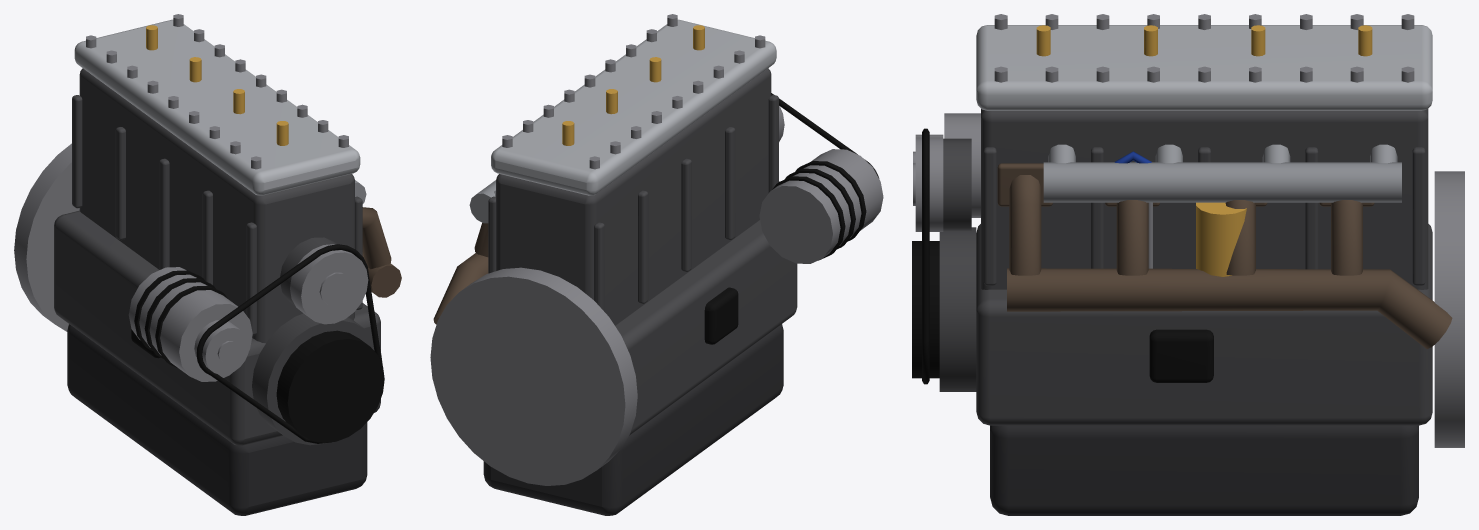
The model's file is runabout_i4_2l9_sv.glb.
The picture shows the model from 3 angles, left to right: view 1: azimuth 30°, elevation 25°; view 2: azimuth 150°, elevation 25°; view 3: azimuth 270°, elevation 25°; orthographic projection. The views are drawn at different scales.
Parts seen in each view (by area): view 1: runabout_i4_2l9_sv; view 2: runabout_i4_2l9_sv; view 3: runabout_i4_2l9_sv.
Part boxes in pixels (<box>): runabout_i4_2l9_sv: <box>14,14,401,515</box>; runabout_i4_2l9_sv: <box>430,14,883,515</box>; runabout_i4_2l9_sv: <box>912,14,1464,515</box>.
Bounding box in the file's own units: 0.387 × 0.5435 × 0.6017.
